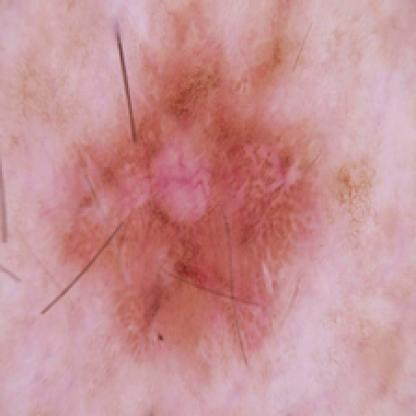Skin_Cancer-Malignant: (57, 1, 334, 367)
